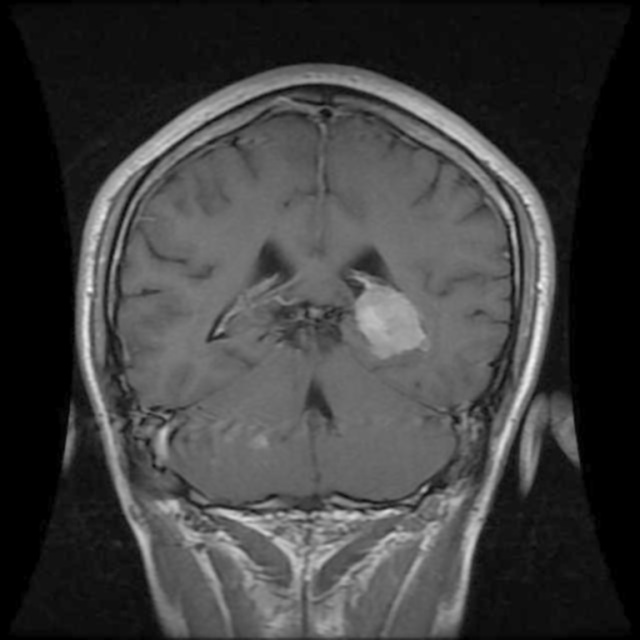meningioma tumor: (336, 256, 445, 372)
